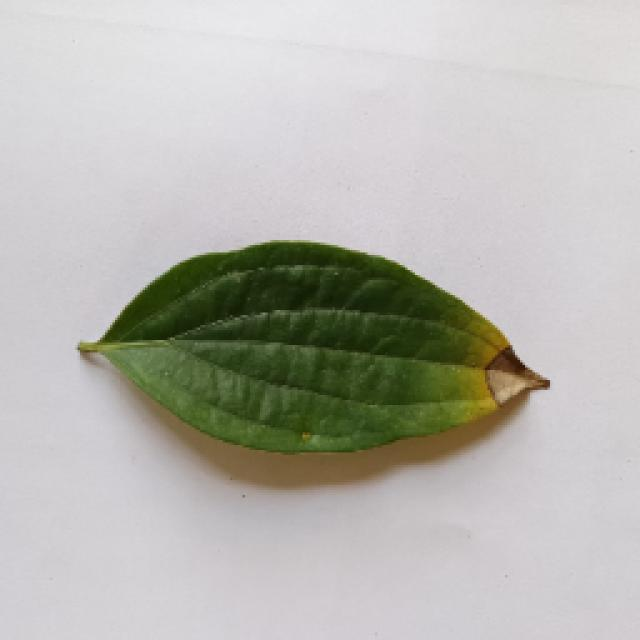footrot: (70, 235, 545, 450)
